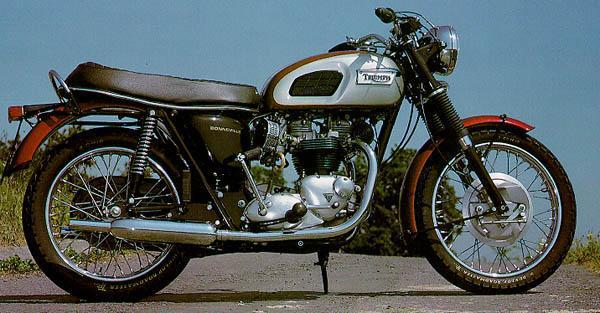motorcycle: (17, 2, 600, 309)
